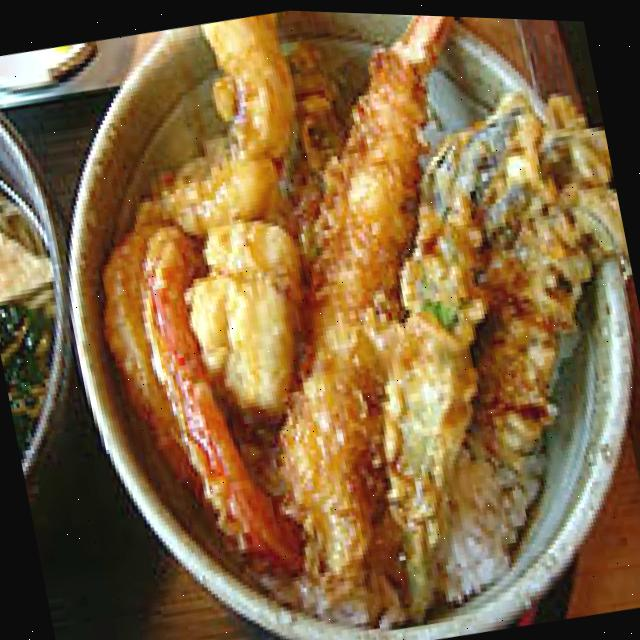熟制海鲜: (20, 1, 640, 640)
